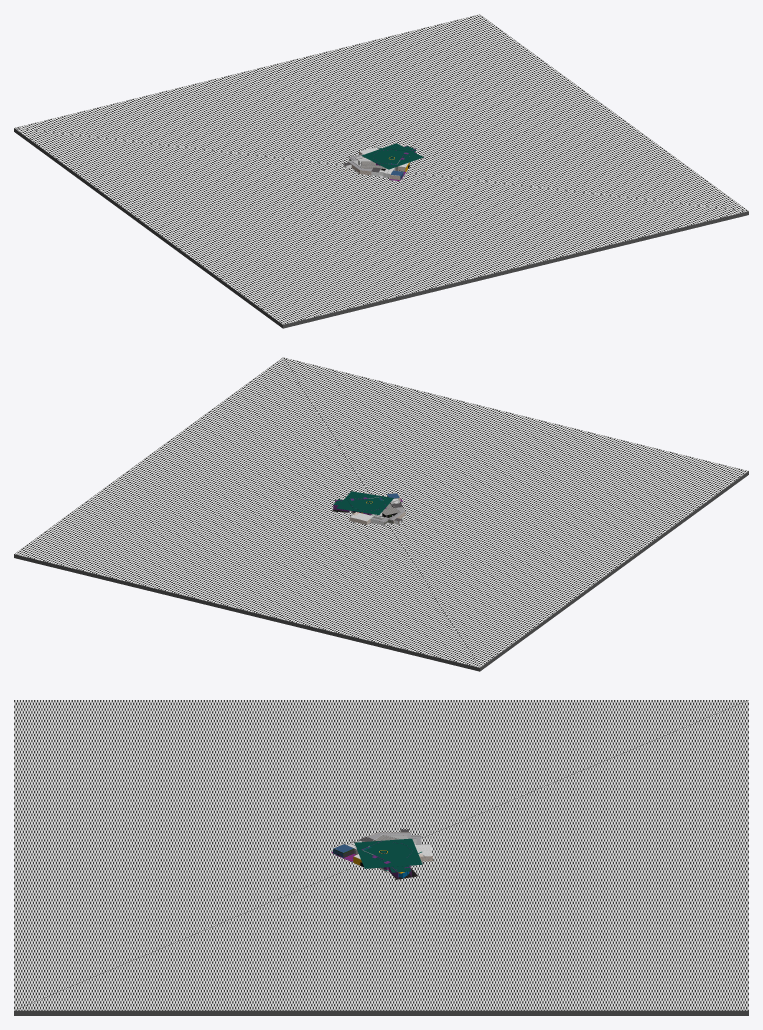
The picture shows the model from 3 angles, top to bottom: view 1: azimuth 30°, elevation 25°; view 2: azimuth 150°, elevation 25°; view 3: azimuth 270°, elevation 25°; orthographic projection. The views are drawn at different scales.
Visible parts, largest first — view 1: fnaf movie map_Baseplate2Mtl_0, fnaf movie map_Baseplate1Mtl_0, fnaf movie map_Wedge19Mtl_0; view 2: fnaf movie map_Baseplate2Mtl_0, fnaf movie map_Baseplate1Mtl_0, fnaf movie map_Wedge19Mtl_0; view 3: fnaf movie map_Baseplate2Mtl_0, fnaf movie map_Baseplate1Mtl_0, fnaf movie map_Wedge19Mtl_0.
Boxes of the visible parts, x1,y1,x2,y2 form: fnaf movie map_Baseplate2Mtl_0: (14, 14, 748, 324); fnaf movie map_Baseplate1Mtl_0: (14, 128, 748, 328); fnaf movie map_Wedge19Mtl_0: (361, 143, 423, 169); fnaf movie map_Baseplate2Mtl_0: (14, 357, 748, 667); fnaf movie map_Baseplate1Mtl_0: (14, 471, 748, 671); fnaf movie map_Wedge19Mtl_0: (333, 491, 393, 514); fnaf movie map_Baseplate2Mtl_0: (14, 700, 748, 1010); fnaf movie map_Baseplate1Mtl_0: (14, 1010, 748, 1015); fnaf movie map_Wedge19Mtl_0: (354, 838, 422, 872).
Size of the model in its own units: 8225 by 322 by 8225.
83 materials, 45 textured.
